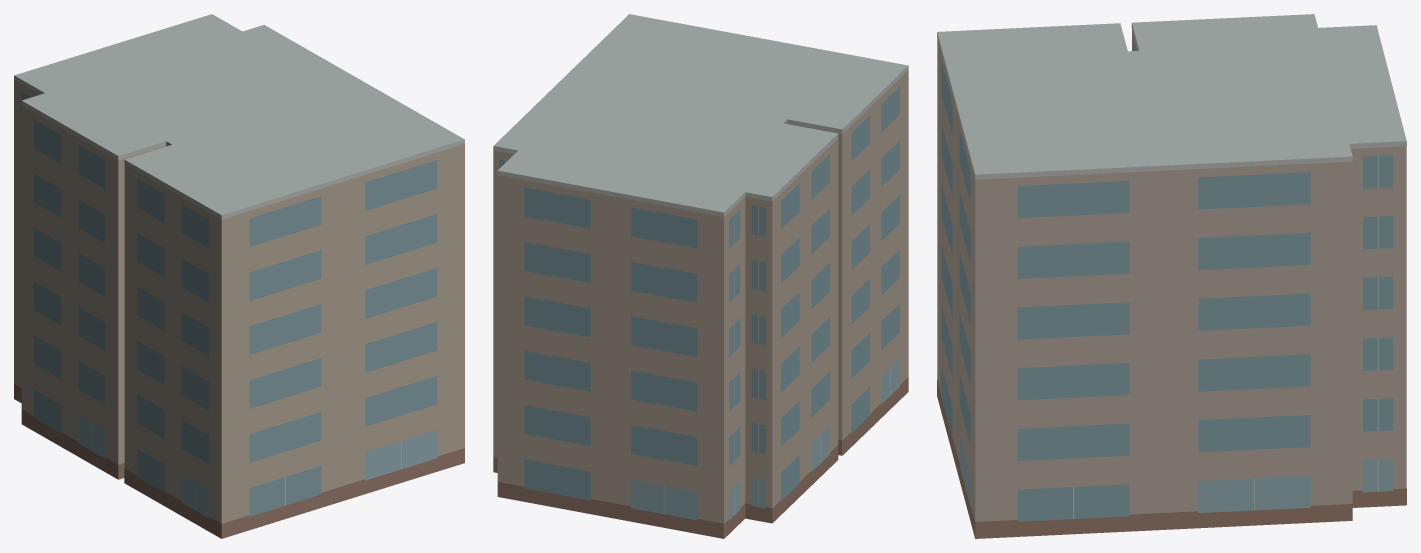
File: survey-upis-32885351.glb
3 views of the same model, side by side, from view 1: azimuth 30°, elevation 25°; view 2: azimuth 150°, elevation 25°; view 3: azimuth 270°, elevation 25° (orthographic). The views are drawn at different scales.
Visible parts, largest first — view 1: survey-upis-32885351.tmp; view 2: survey-upis-32885351.tmp; view 3: survey-upis-32885351.tmp.
Boxes of the visible parts, <box> form: survey-upis-32885351.tmp: <box>14,14,464,538</box>; survey-upis-32885351.tmp: <box>493,14,908,538</box>; survey-upis-32885351.tmp: <box>937,14,1406,538</box>.
Bounding box in the file's own units: 16.71 × 17.65 × 20.64.
